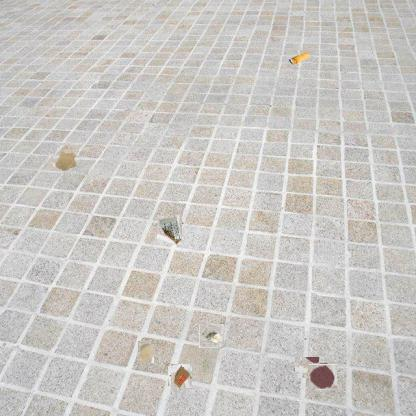dirty: (155, 216, 183, 244), (199, 324, 224, 349), (296, 356, 318, 378), (170, 365, 192, 387), (287, 50, 313, 66), (138, 341, 154, 363)
liquid: (53, 144, 80, 172), (310, 363, 337, 390)
